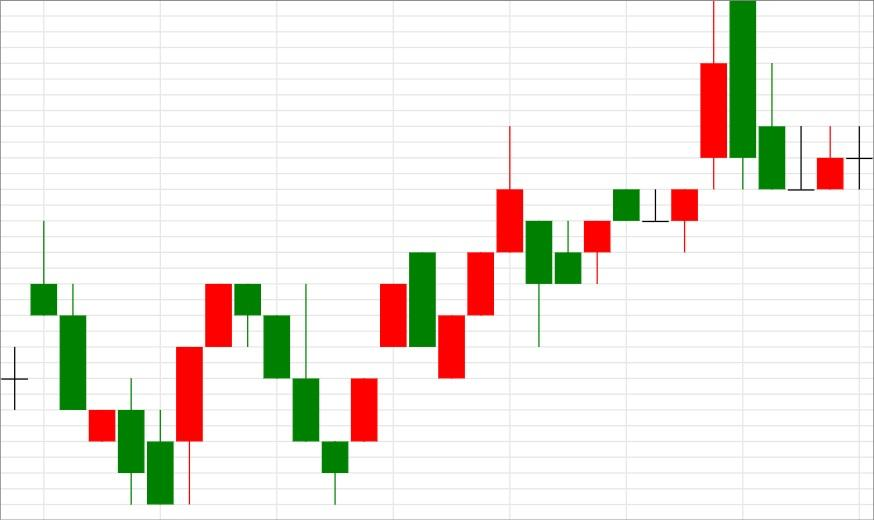bearish_engulfing_fall: (525, 0, 757, 347), (320, 252, 436, 505)
three_black_crows_fall: (146, 283, 320, 505)
